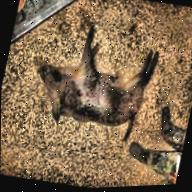boar: (20, 13, 180, 148)
